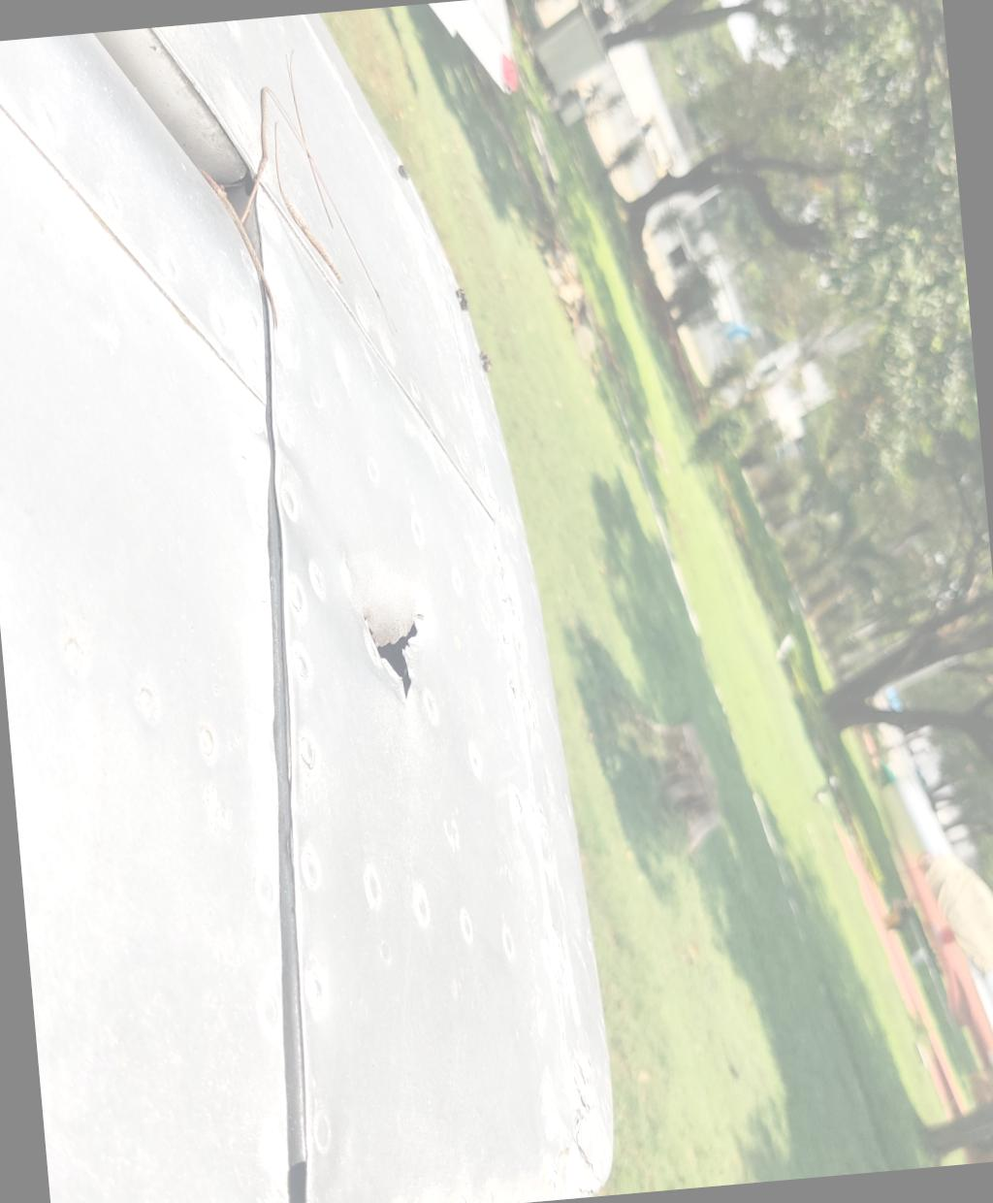crack: (398, 485, 580, 674)
